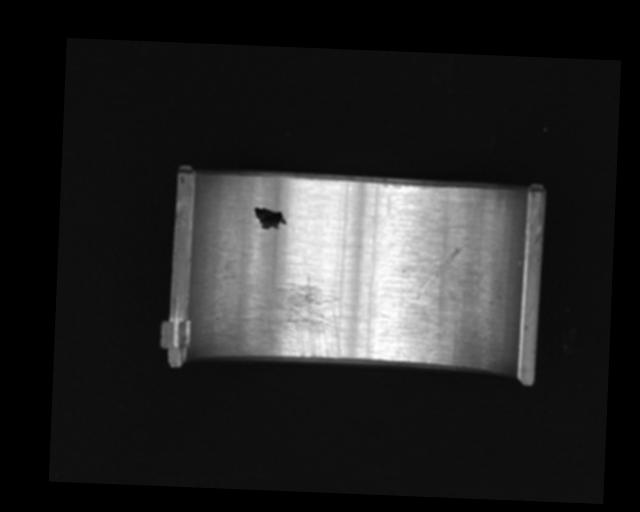blot: (252, 206, 288, 230)
nick: (418, 245, 462, 301)
scratch: (229, 272, 343, 363)
